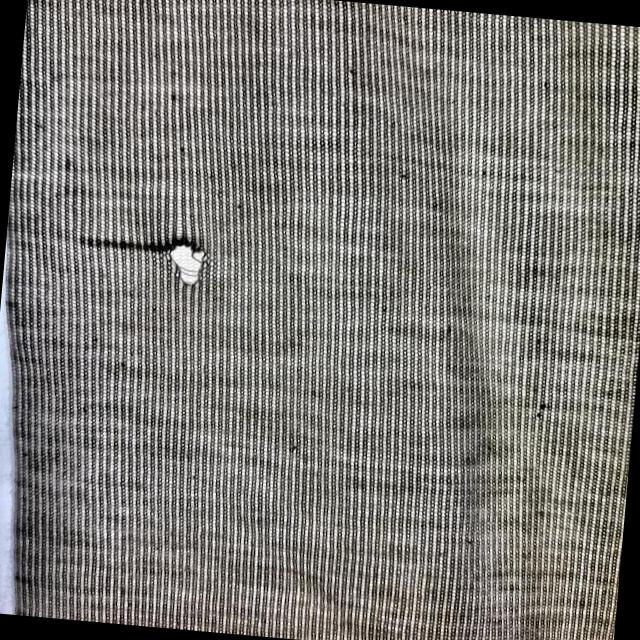cut: (158, 227, 222, 287)
